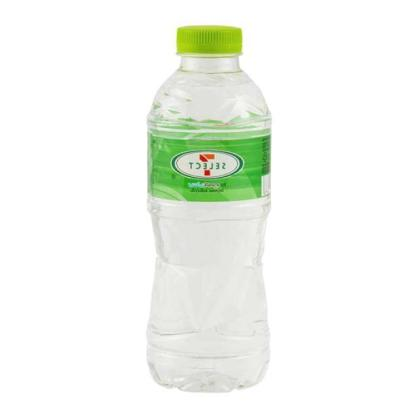bottle: (144, 24, 276, 394)
cap: (173, 24, 246, 63)
label: (148, 129, 272, 204)
